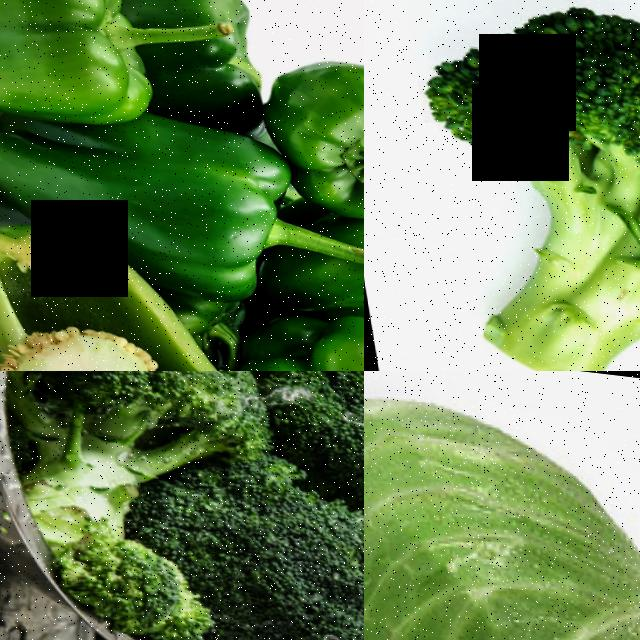bell pepper: (91, 93, 308, 292), (0, 183, 136, 371), (0, 0, 152, 131), (269, 13, 364, 211)
broccoli: (396, 0, 640, 371), (180, 455, 364, 640), (36, 487, 206, 640), (0, 371, 252, 467), (262, 371, 364, 494)
cabbage: (364, 371, 640, 640)
